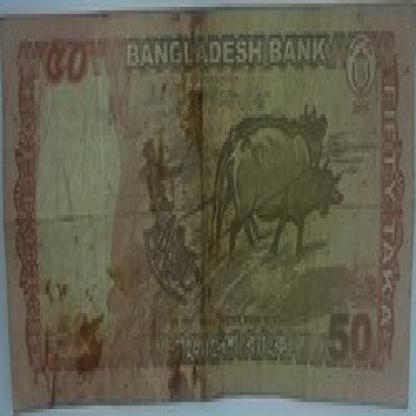Fifty taka: (318, 302, 376, 381), (38, 42, 93, 94)
